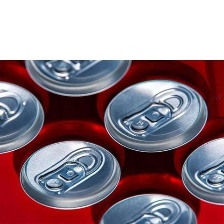can: (8, 97, 127, 212), (94, 61, 209, 155), (173, 58, 224, 206), (90, 164, 202, 224), (0, 59, 50, 157), (20, 59, 134, 100)
